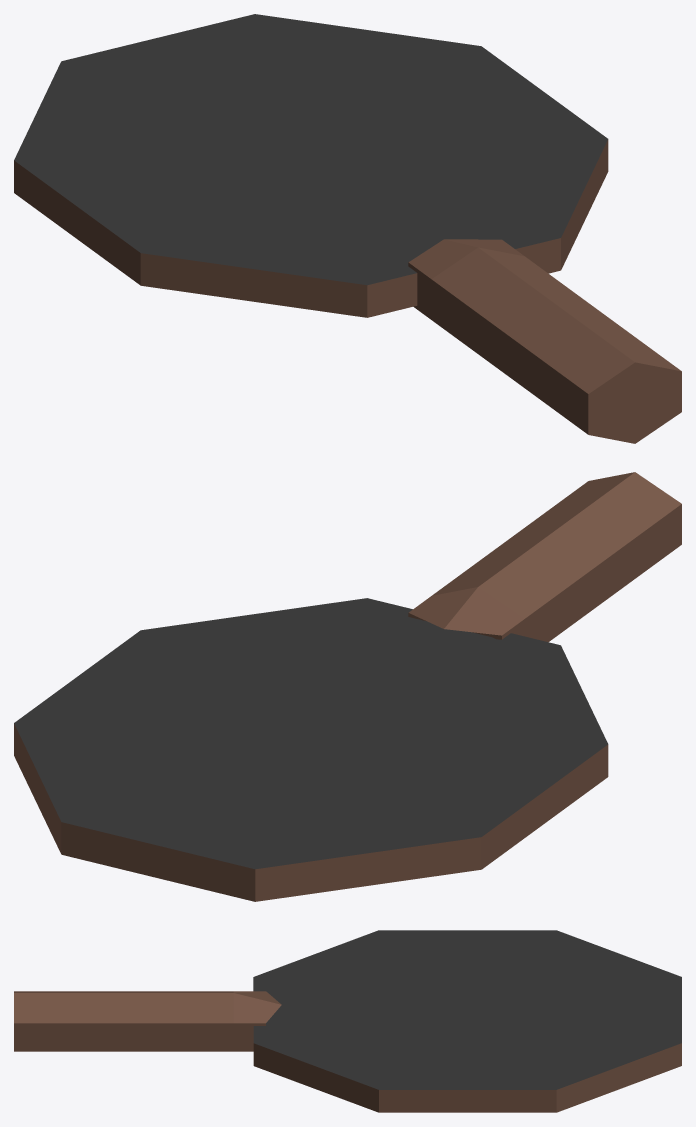
Rendered from SM_Props_PingPong_01_2.fbx.
3 views of the same model, one above another, from view 1: azimuth 30°, elevation 25°; view 2: azimuth 150°, elevation 25°; view 3: azimuth 270°, elevation 25° (orthographic). The views are drawn at different scales.
Parts seen in each view (by area): view 1: SM_Props_PingPong_01_2; view 2: SM_Props_PingPong_01_2; view 3: SM_Props_PingPong_01_2.
Part boxes in pixels (<box>): SM_Props_PingPong_01_2: <box>14,14,681,443</box>; SM_Props_PingPong_01_2: <box>14,472,681,901</box>; SM_Props_PingPong_01_2: <box>14,930,681,1112</box>.
Size of the model in its own units: 0.15 by 0.025 by 0.265.
